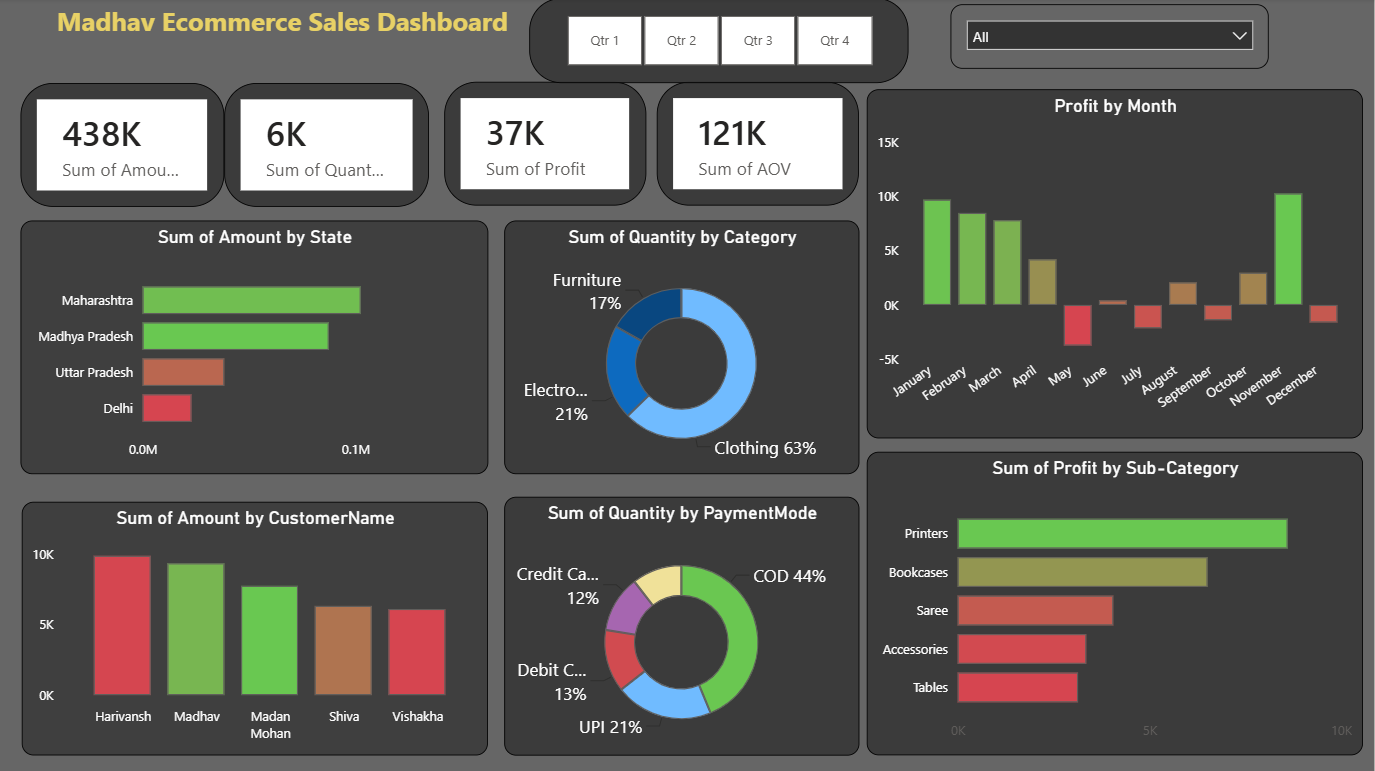

The dashboard page shown, as its layout file describes it:
{"tool":"powerbi","page":{"name":"Page 1","canvas":[1280,720],"ordinal":0},"visuals":[{"type":"textbox","box":[9.6,0,510.5,82.3],"z":0},{"type":"columnChart","title":"Profit by Month","fields":{"Category":["Orders.Order Date.Variation.Date Hierarchy.Month"],"Y":["Sum(Details.Profit)"]},"box":[808.1,84.9,461.6,324.4],"z":1},{"type":"barChart","fields":{"Category":["Details.Sub-Category"],"Y":["Sum(Details.Profit)"]},"box":[808.1,422.1,461.6,282.6],"z":2},{"type":"donutChart","fields":{"Category":["Details.Category"],"Y":["Sum(Details.Quantity)"]},"box":[470.9,207,330.2,236],"z":3},{"type":"donutChart","fields":{"Category":["Details.PaymentMode"],"Y":["Sum(Details.Quantity)"]},"box":[470.9,464,330.2,240.7],"z":4},{"type":"cardVisual","fields":{"Data":["Sum(Details.Amount)"]},"box":[20.6,79.6,189.4,115.3],"z":5},{"type":"cardVisual","fields":{"Data":["Sum(Details.Quantity)"]},"box":[210.5,79.1,190.7,115.3],"z":6},{"type":"cardVisual","fields":{"Data":["Sum(Details.Profit)"]},"box":[415.1,77.9,188,115.3],"z":7},{"type":"cardVisual","fields":{"Data":["Sum(Details.AOV)"]},"box":[612.8,77.9,188.4,115.1],"z":8},{"type":"barChart","fields":{"Category":["Orders.State"],"Y":["Sum(Details.Amount)"]},"box":[20.9,207,434.9,236],"z":9},{"type":"columnChart","fields":{"Category":["Orders.CustomerName"],"Y":["Sum(Details.Amount)"]},"box":[22.1,468.6,433.7,236],"z":10},{"type":"slicer","fields":{"Values":["Orders.Order Date.Variation.Date Hierarchy.Quarter"]},"box":[494,0,352.7,79.6],"z":11},{"type":"slicer","fields":{"Values":["Orders.State"]},"box":[886.5,5.5,296.4,60.4],"z":12}]}

Visuals, with their boxes in screenshot pixels (x1, y1, x2, y2), scaled from the page's 1280x720 canvas onto the 1375x771 screenshot:
textbox: crop(10, 0, 559, 88)
"Profit by Month" columnChart: crop(868, 91, 1364, 438)
barChart - Details.Sub-Category x Sum(Details.Profit): crop(868, 452, 1364, 755)
donutChart - Details.Category x Sum(Details.Quantity): crop(506, 222, 861, 474)
donutChart - Details.PaymentMode x Sum(Details.Quantity): crop(506, 497, 861, 755)
cardVisual - Sum(Details.Amount): crop(22, 85, 226, 209)
cardVisual - Sum(Details.Quantity): crop(226, 85, 431, 208)
cardVisual - Sum(Details.Profit): crop(446, 83, 648, 207)
cardVisual - Sum(Details.AOV): crop(658, 83, 861, 207)
barChart - Orders.State x Sum(Details.Amount): crop(22, 222, 490, 474)
columnChart - Orders.CustomerName x Sum(Details.Amount): crop(24, 502, 490, 755)
slicer - Orders.Order Date.Variation.Date Hierarchy.Quarter: crop(531, 0, 910, 85)
slicer - Orders.State: crop(952, 6, 1271, 71)
